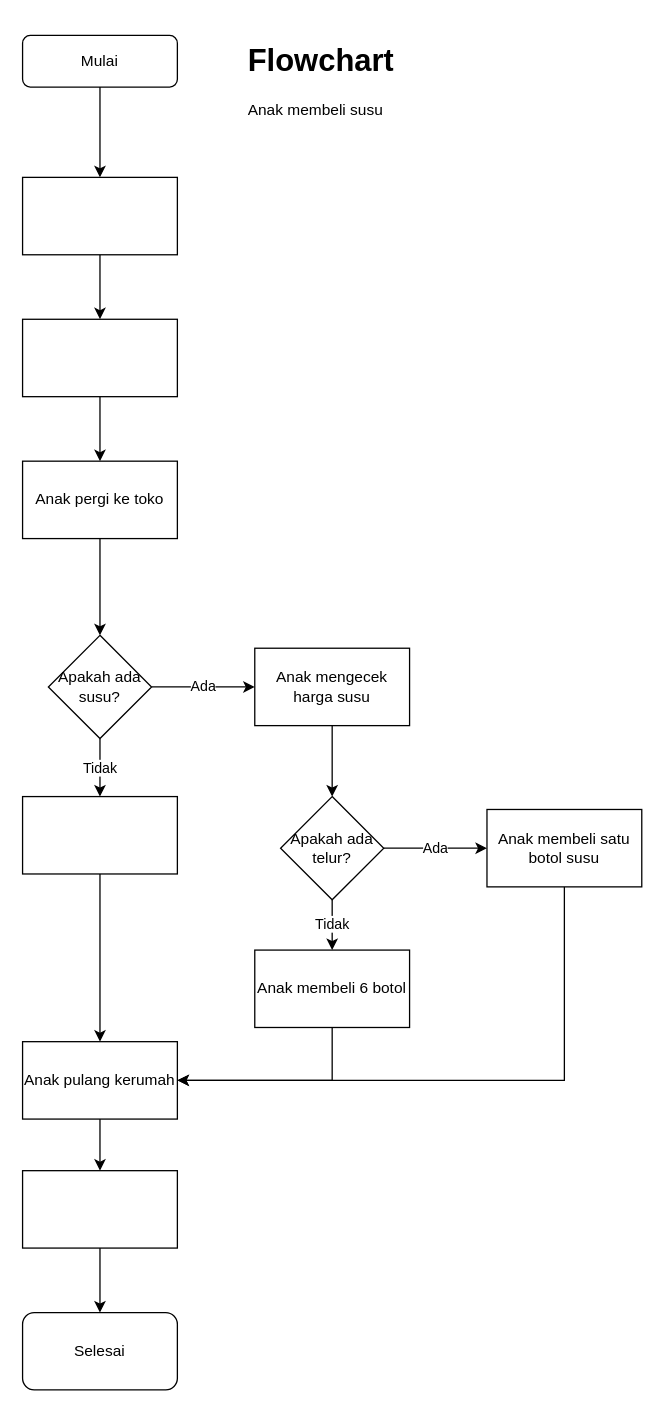
Image size: 664x1413. Some labels were removed from this diagram. Here are the shapes that lost their labels. From the top down, the centre of each, then its label:
pixel 99 215: Ibu memberi perintah
pixel 99 357: Anak menjawab "Ok"
pixel 99 834: Anak tidak jadi membeli susu
pixel 99 1208: Menyampaikan kepada Ibu
